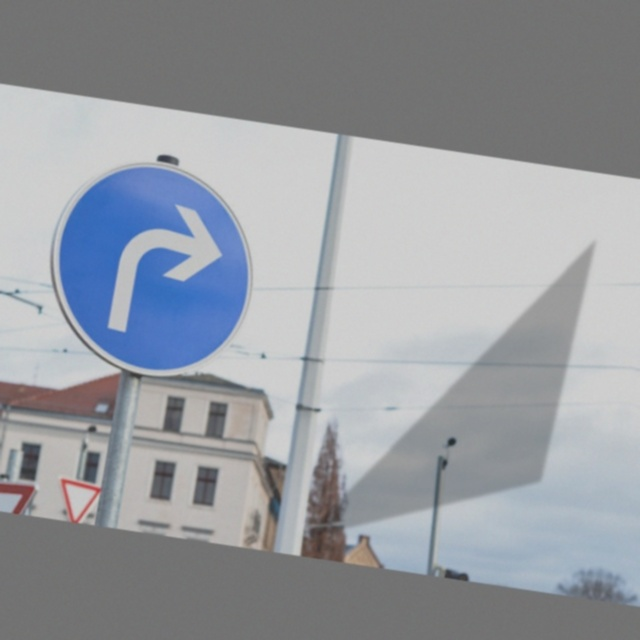Compulsory_Turn_Right_Ahead: (39, 148, 262, 390)
